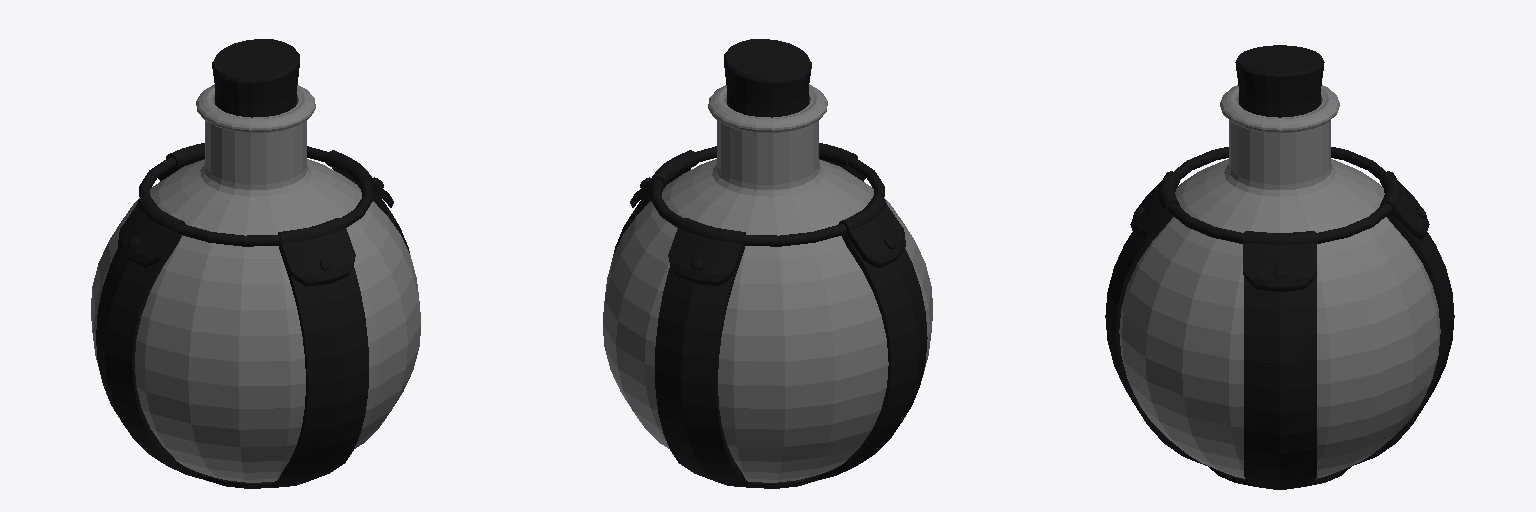
Rendered from Potion_Bottle.obj.
3 renders of one model, left to right at view 1: azimuth 30°, elevation 25°; view 2: azimuth 150°, elevation 25°; view 3: azimuth 270°, elevation 25°, orthographic.
Visible parts, largest first — view 1: Bottle Potion_Bottle, Potion_Bottle Leather_Collar, Potion_Bottle Cork; view 2: Bottle Potion_Bottle, Potion_Bottle Leather_Collar, Potion_Bottle Cork; view 3: Bottle Potion_Bottle, Potion_Bottle Leather_Collar, Potion_Bottle Cork.
Boxes of the visible parts, x1=… form: Bottle Potion_Bottle: x1=91, y1=84, x2=420, y2=482; Potion_Bottle Leather_Collar: x1=96, y1=143, x2=409, y2=488; Potion_Bottle Cork: x1=212, y1=39, x2=299, y2=117; Bottle Potion_Bottle: x1=603, y1=84, x2=932, y2=482; Potion_Bottle Leather_Collar: x1=612, y1=143, x2=927, y2=488; Potion_Bottle Cork: x1=724, y1=39, x2=811, y2=117; Bottle Potion_Bottle: x1=1119, y1=85, x2=1440, y2=478; Potion_Bottle Leather_Collar: x1=1105, y1=147, x2=1454, y2=489; Potion_Bottle Cork: x1=1235, y1=45, x2=1324, y2=117.
Size of the model in its own units: 2.1 by 2.67 by 2.1.